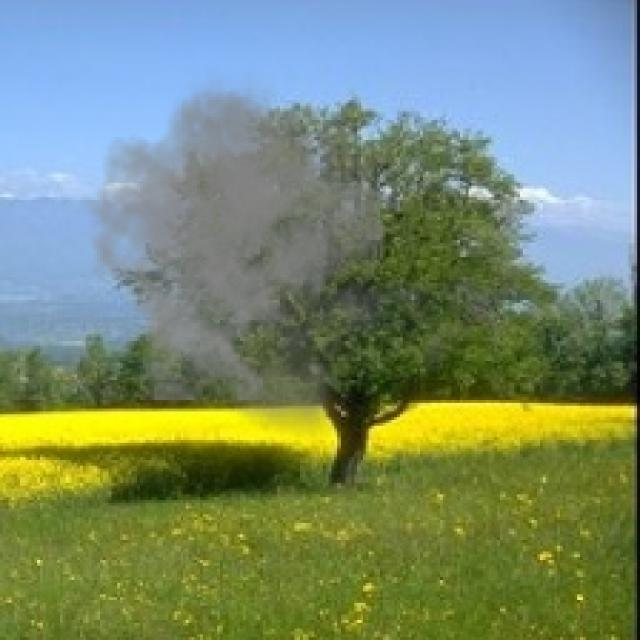Smoke: (80, 63, 494, 446)
